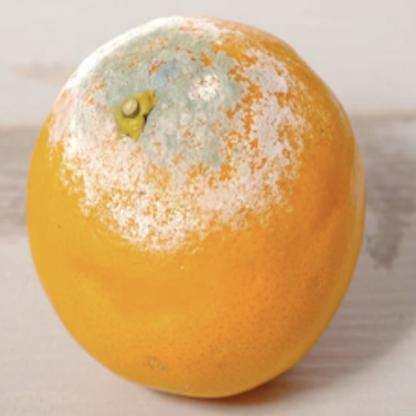rotten: (29, 14, 370, 400)
